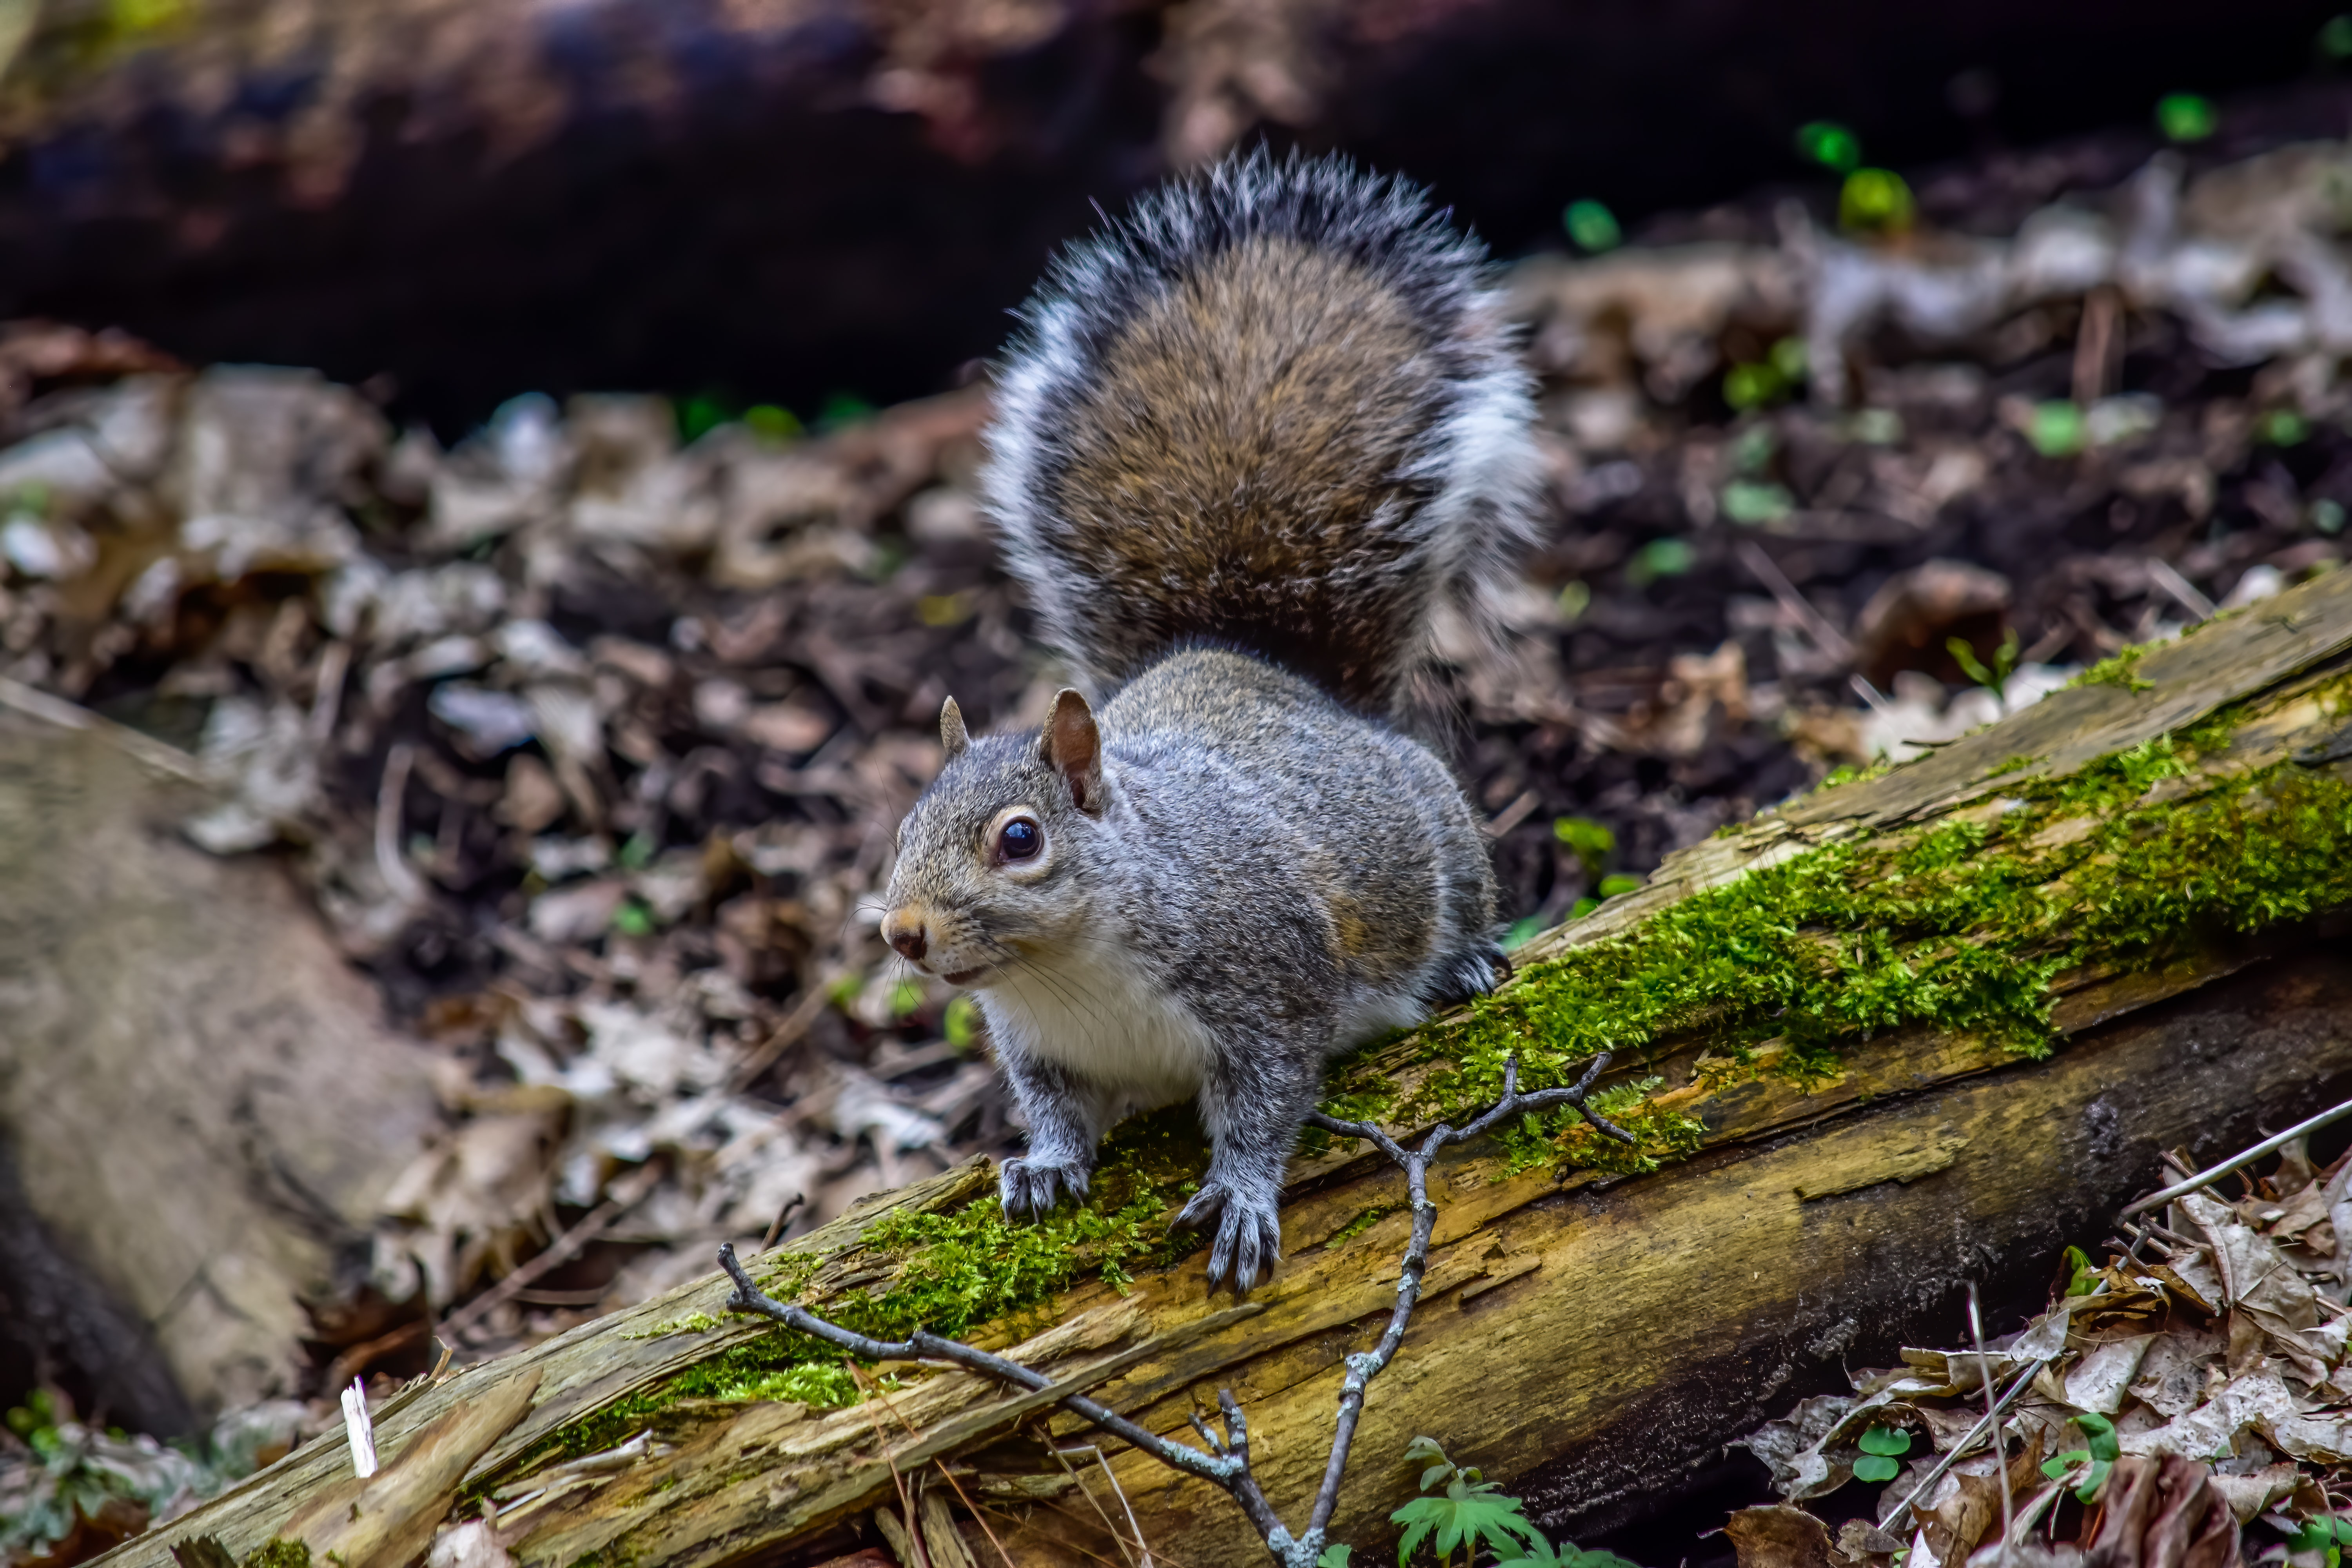squirrel: (861, 135, 1508, 1258)
